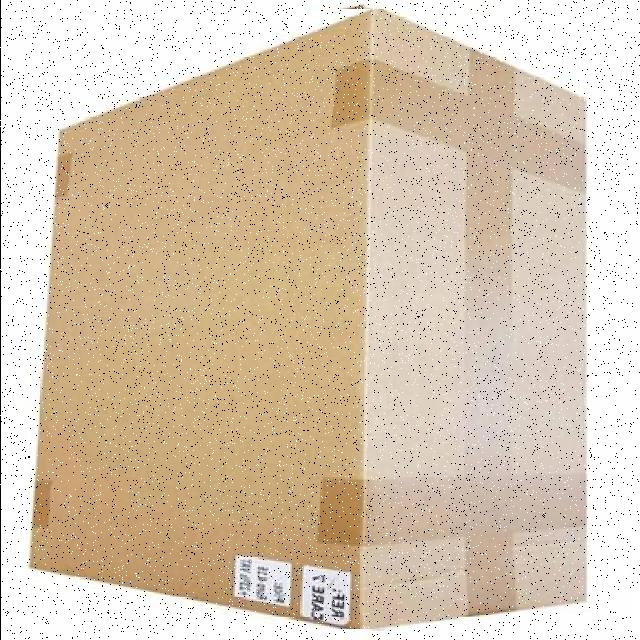normal: (23, 9, 597, 629)
